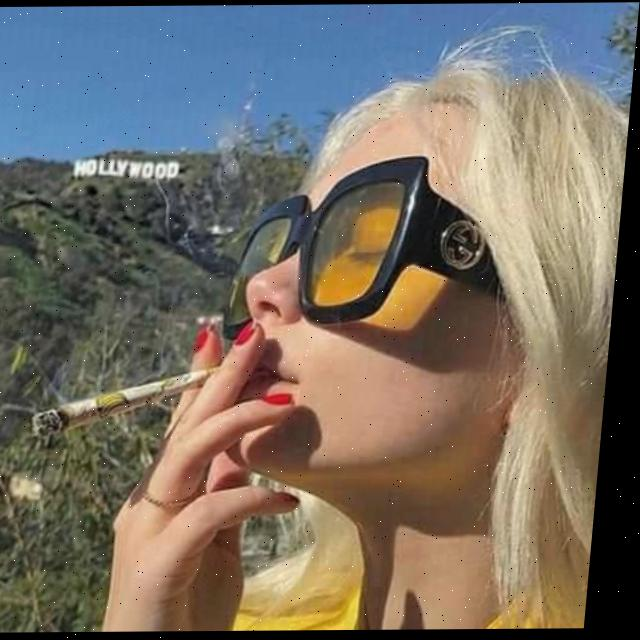cigarette: (37, 369, 227, 438)
